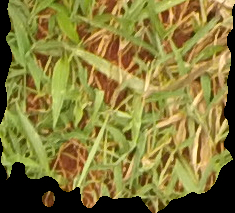grass: (1, 1, 234, 212)
